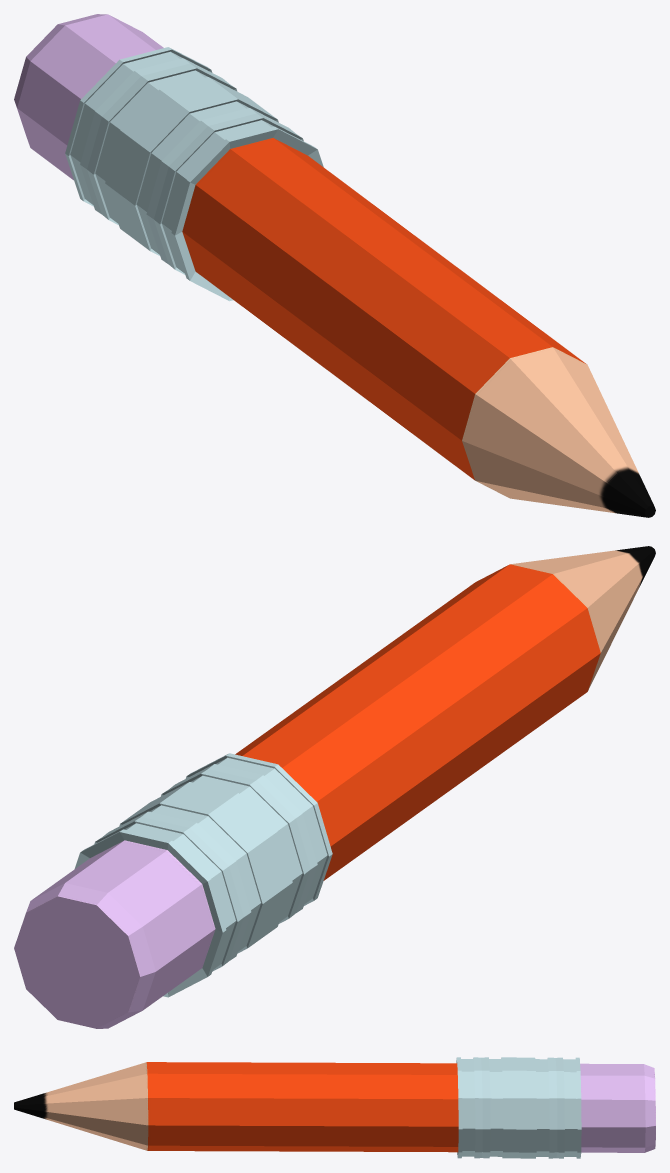
The model's file is pencil_3.glb.
The picture shows the model from 3 angles, top to bottom: view 1: azimuth 30°, elevation 25°; view 2: azimuth 150°, elevation 25°; view 3: azimuth 270°, elevation 25°; orthographic projection. The views are drawn at different scales.
Visible parts, largest first — view 1: Object_2; view 2: Object_2; view 3: Object_2.
Boxes of the visible parts, left/top/right/bottom form: Object_2: left=14, top=14, right=655, bottom=517; Object_2: left=14, top=546, right=655, bottom=1028; Object_2: left=14, top=1057, right=655, bottom=1158.
Bounding box in the file's own units: 1.14 × 1.07 × 7.12.
1 material, 1 textured.
